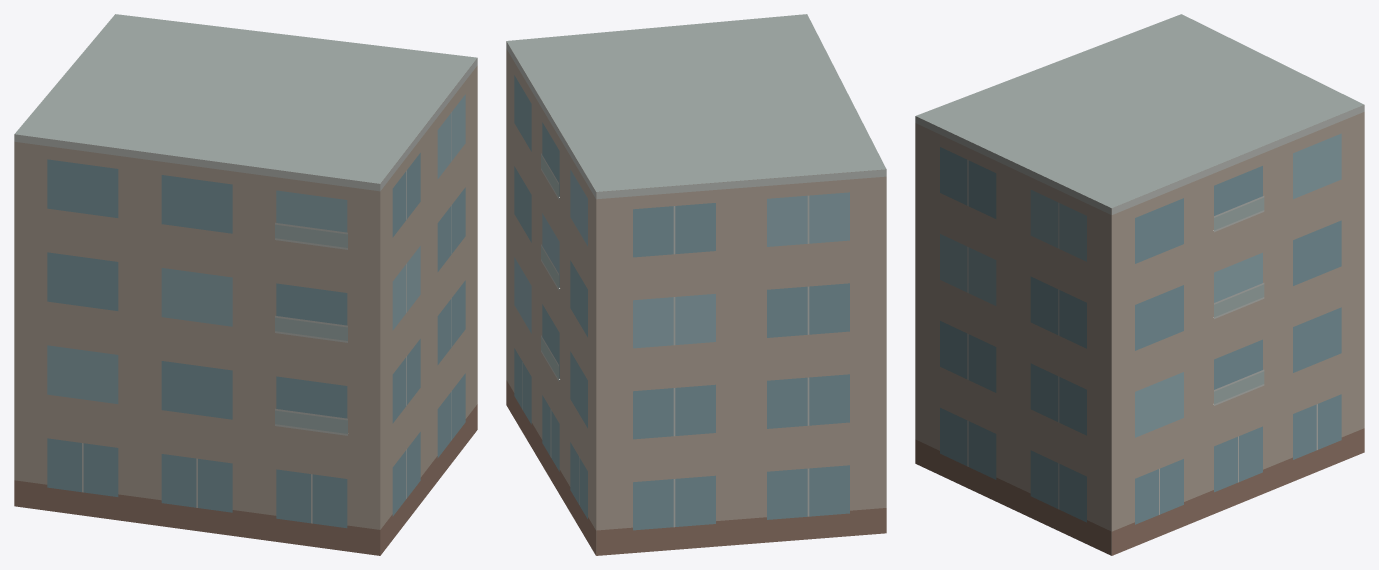
The model's file is survey-upis-32856280.glb.
The picture shows the model from 3 angles, left to right: view 1: azimuth 30°, elevation 25°; view 2: azimuth 150°, elevation 25°; view 3: azimuth 270°, elevation 25°; orthographic projection. The views are drawn at different scales.
Visible parts, largest first — view 1: survey-upis-32856280.tmp; view 2: survey-upis-32856280.tmp; view 3: survey-upis-32856280.tmp.
Boxes of the visible parts, x1,y1,x2,y2 form: survey-upis-32856280.tmp: (14, 14, 477, 555); survey-upis-32856280.tmp: (506, 14, 886, 555); survey-upis-32856280.tmp: (915, 14, 1364, 555).
Size of the model in its own units: 14.63 by 12.2 by 14.3.
